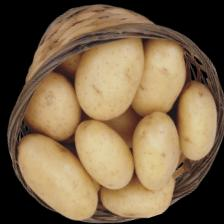potato: (59, 23, 162, 128), (7, 118, 104, 224), (111, 29, 200, 124), (66, 108, 142, 199), (117, 104, 192, 194), (92, 150, 183, 224), (160, 75, 224, 165)
